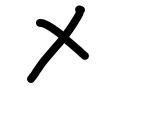mult: (26, 6, 89, 82)
